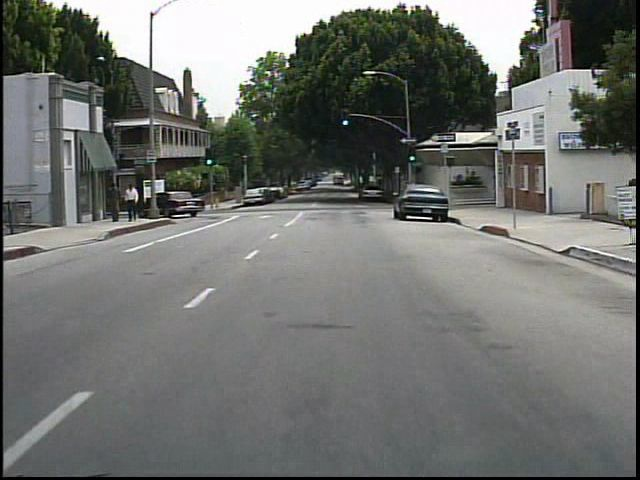person: (110, 182, 128, 224), (126, 182, 144, 223)
